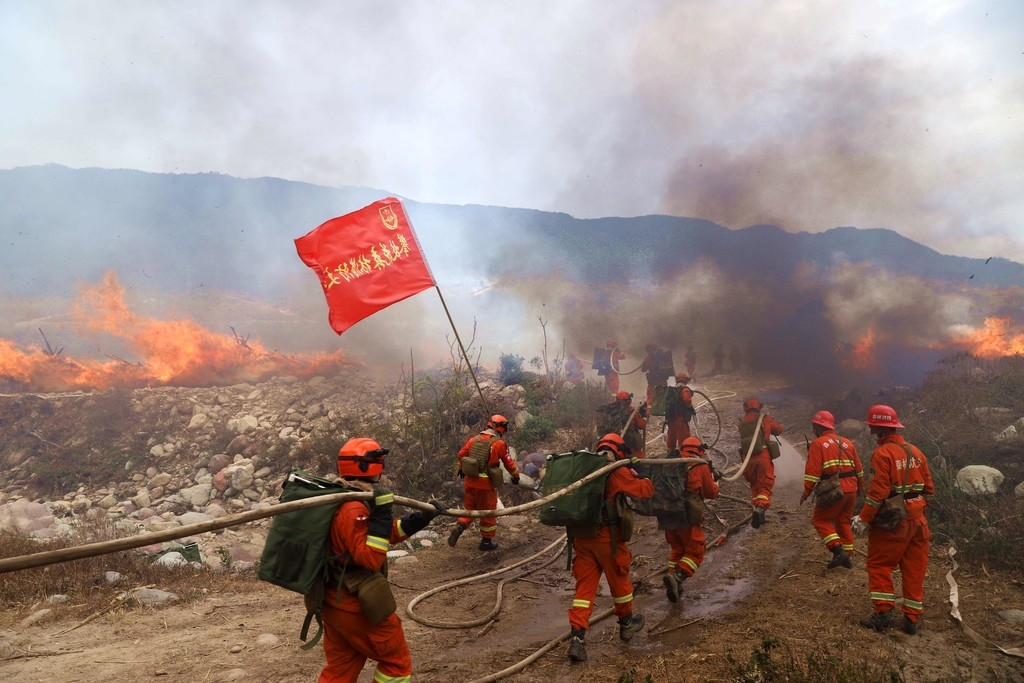fire: (64, 258, 266, 394), (904, 280, 1024, 387), (808, 307, 902, 386), (2, 308, 63, 396), (267, 341, 368, 382), (378, 348, 445, 388), (462, 264, 507, 304), (269, 291, 306, 331), (482, 352, 504, 377)
